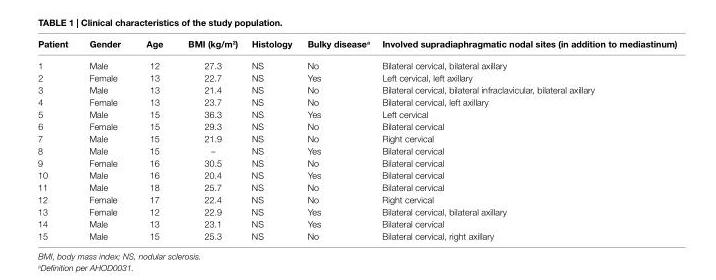table: (37, 37, 676, 240)
table column: (375, 37, 676, 240), (298, 37, 375, 240), (174, 37, 244, 240), (77, 37, 132, 240), (244, 37, 298, 240), (132, 37, 174, 240), (37, 37, 77, 240)
table column header: (37, 37, 676, 53)
table row: (37, 53, 676, 70), (37, 37, 676, 53), (37, 70, 676, 83), (37, 131, 676, 144), (37, 204, 676, 217), (37, 83, 676, 95), (37, 95, 676, 107), (37, 107, 676, 119), (37, 119, 676, 131), (37, 144, 676, 156), (37, 156, 676, 168), (37, 168, 676, 180), (37, 180, 676, 192), (37, 192, 676, 204), (37, 217, 676, 229), (37, 229, 676, 240)
